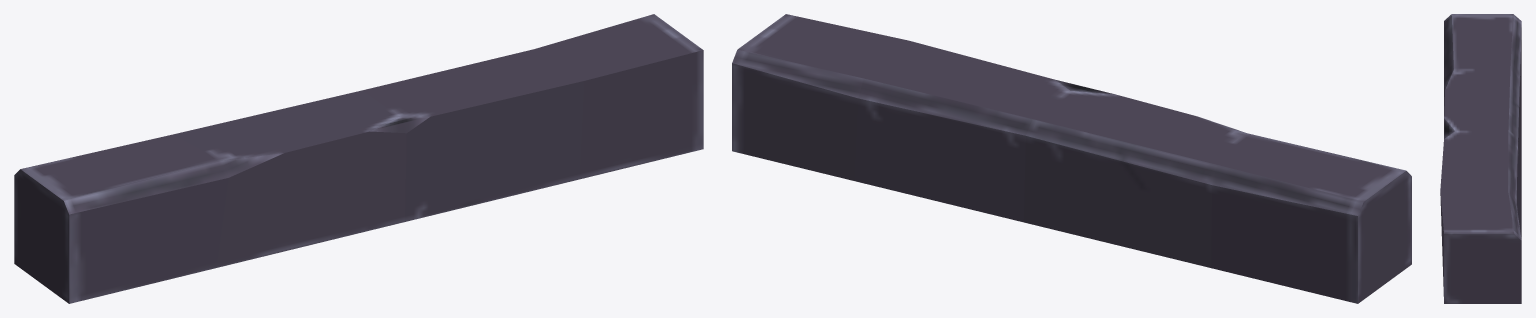
The model's file is stonewall.glb.
3 views of the same model, side by side, from view 1: azimuth 30°, elevation 25°; view 2: azimuth 150°, elevation 25°; view 3: azimuth 270°, elevation 25° (orthographic). The views are drawn at different scales.
Visible parts, largest first — view 1: Cube; view 2: Cube; view 3: Cube.
Part boxes in pixels (x1,y1,x2,y2): Cube: (14,14,703,303); Cube: (732,14,1411,303); Cube: (1440,14,1521,303).
Bounding box in the file's own units: 13.4 × 2.02 × 2.1.
Materials: 1 (1 with a texture image).
